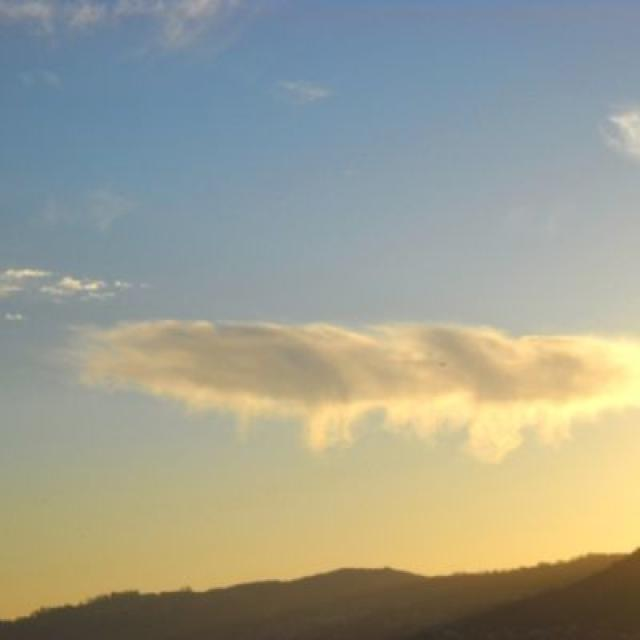Ac: (33, 291, 640, 471)
